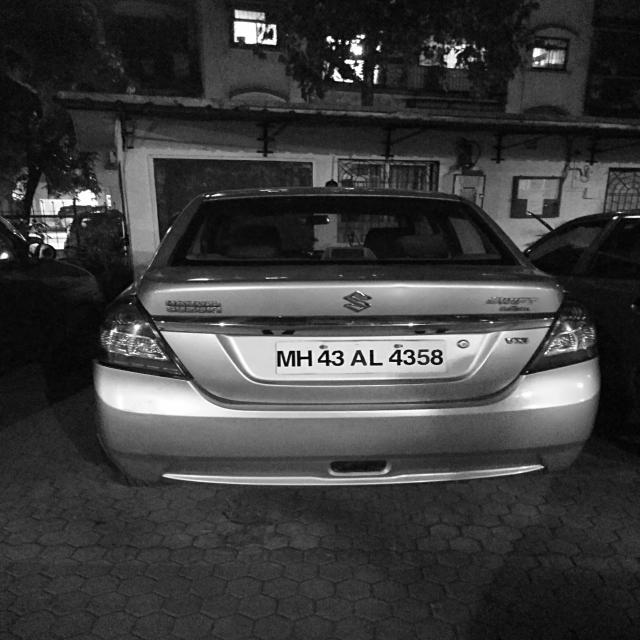car: (90, 180, 607, 505)
license-plate: (271, 338, 447, 377)
